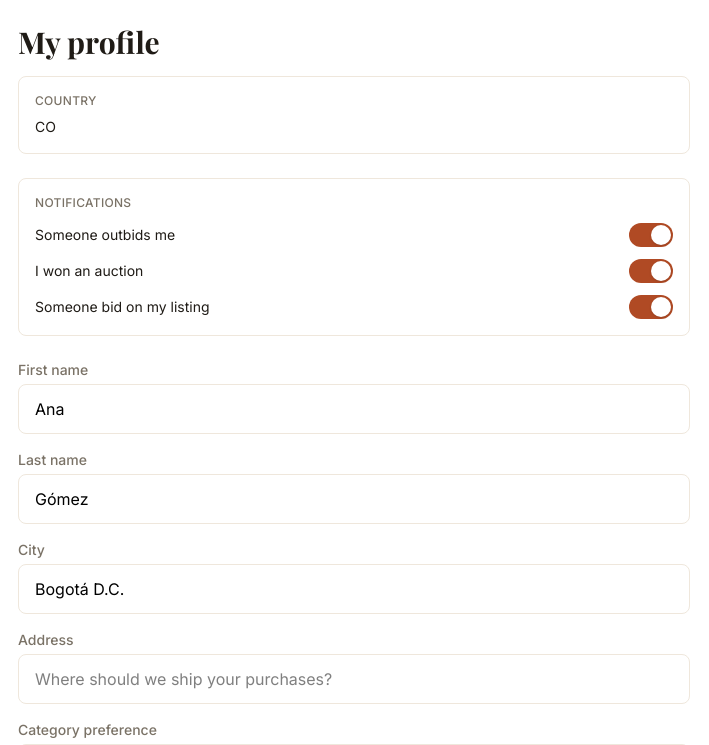
Test: ProfilePage › shows an unsaved-changes indicator once a field is edited
Expected: the text "unsaved changes" is not shown
Type "x" into the field labelled "First name" at (354, 409), box [18,384,690,434]
(page scrolled)
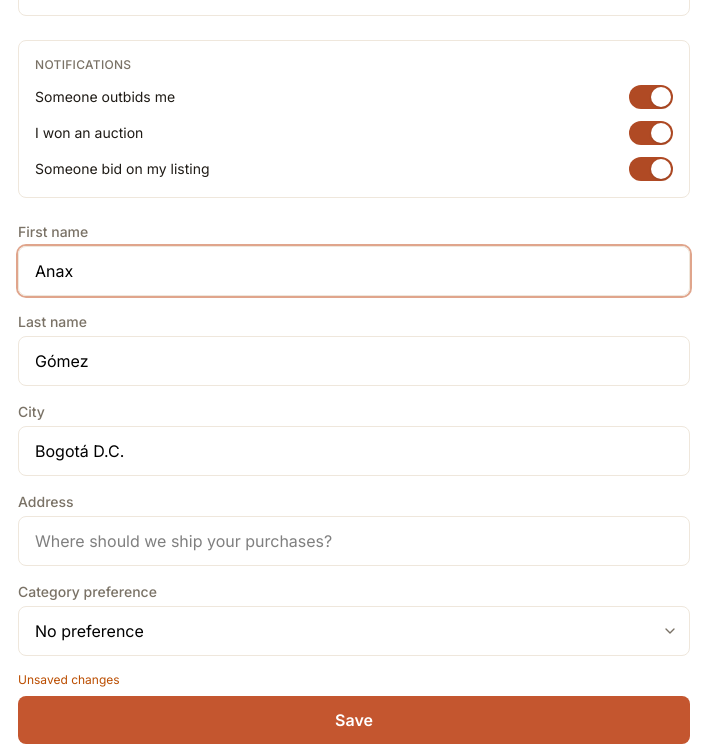
Now the text "Unsaved changes" is shown, box [18,672,120,687]
